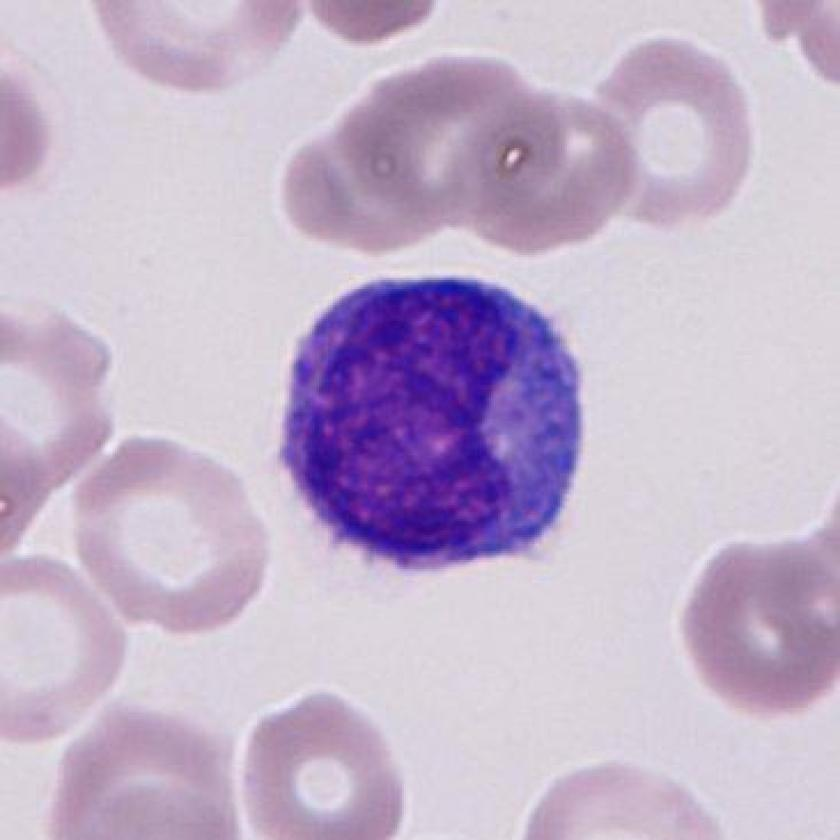monocyte: (270, 263, 598, 604)
